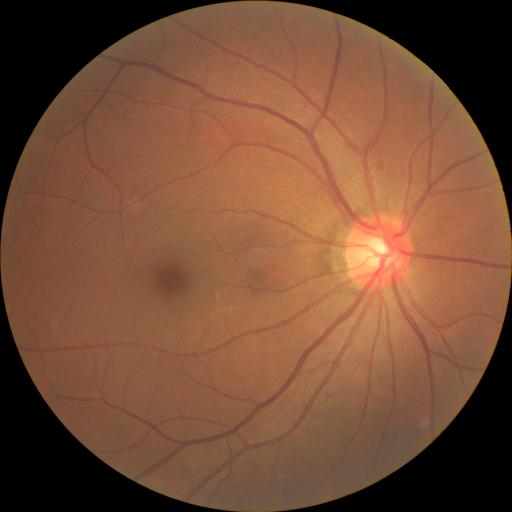Optic Cup: (365, 239, 397, 270)
Optic Disc: (344, 213, 414, 290)
